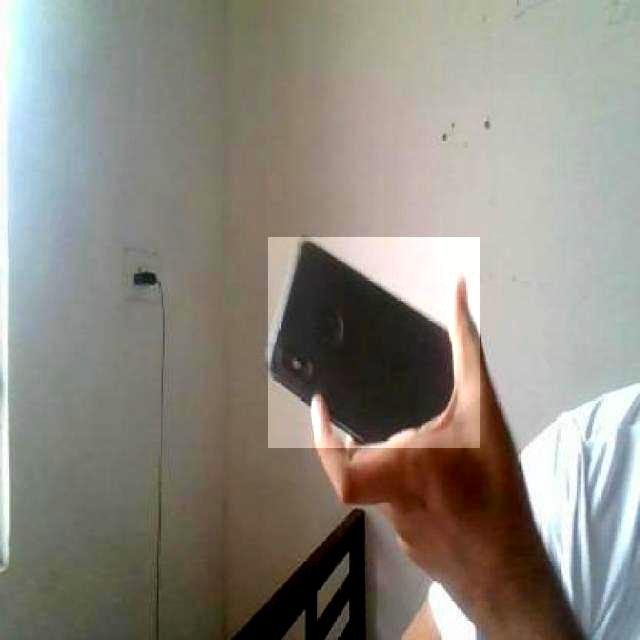lens_back: (291, 353, 303, 374)
phone: (268, 237, 481, 448)
